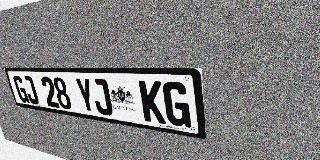2: (40, 76, 60, 108)
8: (52, 77, 73, 110)
G: (162, 81, 191, 128), (12, 75, 30, 103)
J: (90, 78, 114, 116), (21, 76, 40, 105)
K: (139, 80, 166, 124)
Y: (74, 78, 97, 114)
